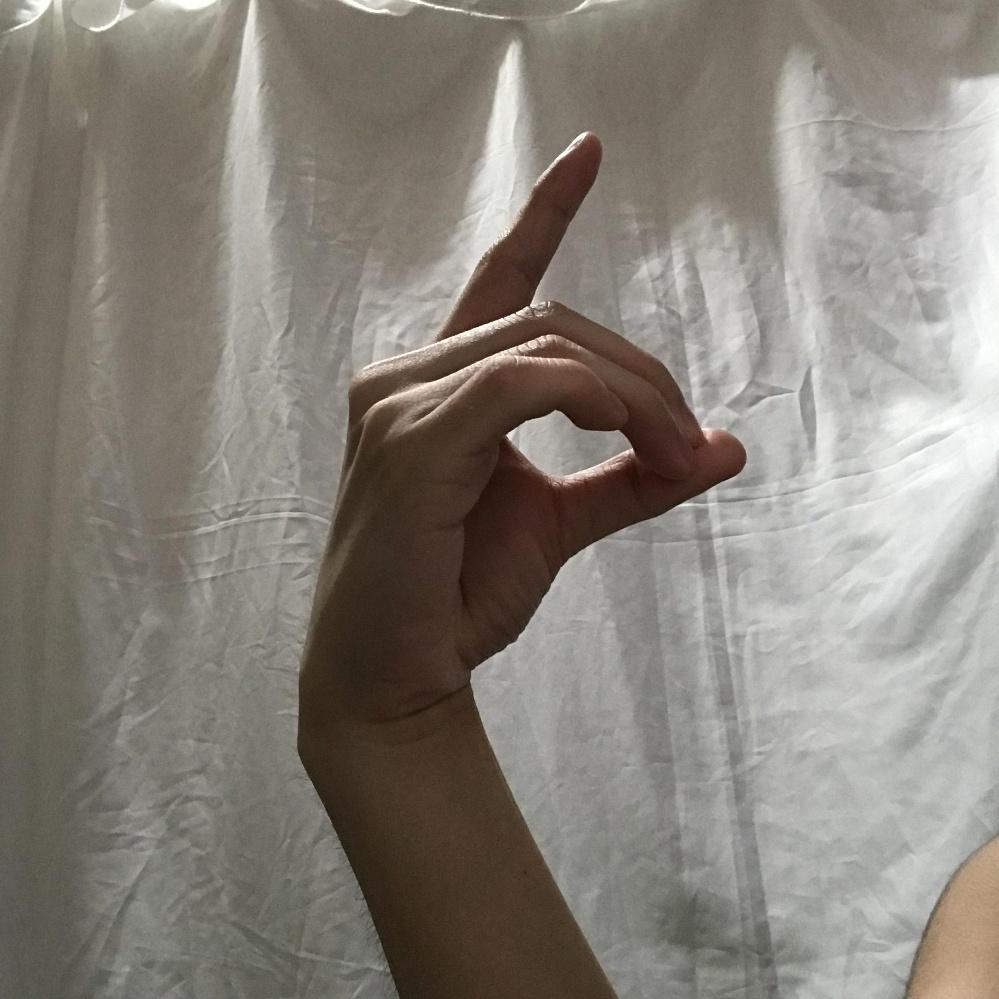d: (310, 127, 746, 676)
